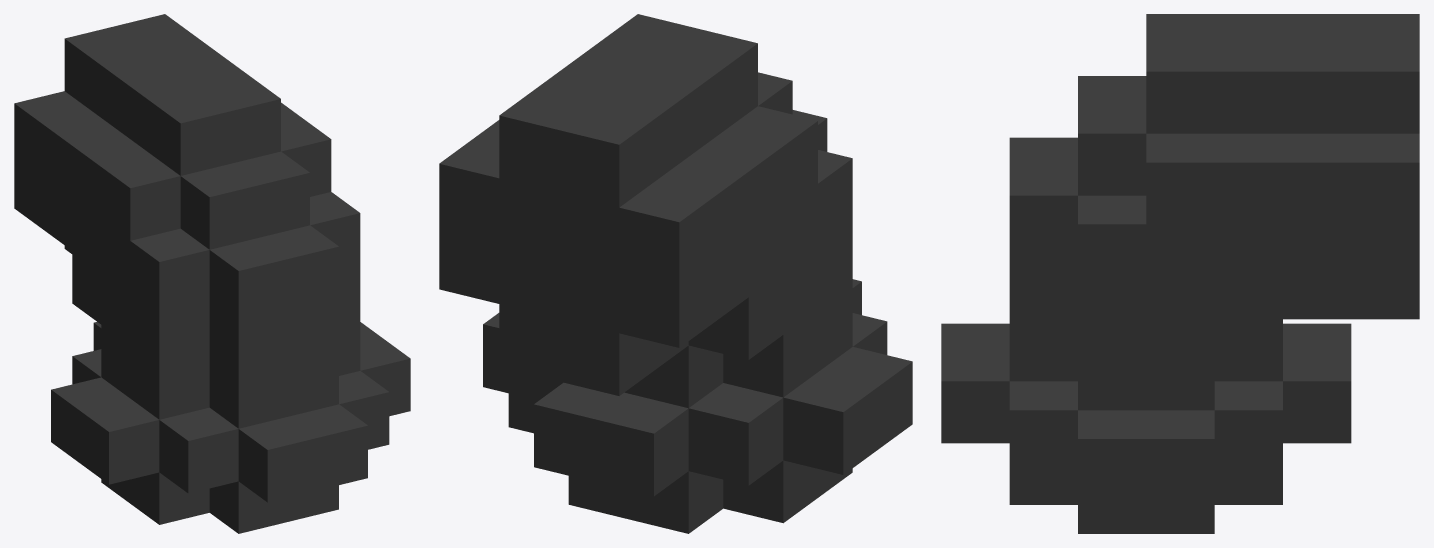
File: PipingCorner.obj
3 renders of one model, left to right at view 1: azimuth 30°, elevation 25°; view 2: azimuth 150°, elevation 25°; view 3: azimuth 270°, elevation 25°, orthographic. The views are drawn at different scales.
Bounding box in the file's own units: 0.6 × 0.7 × 0.7.
Materials: 1 (1 with a texture image).
